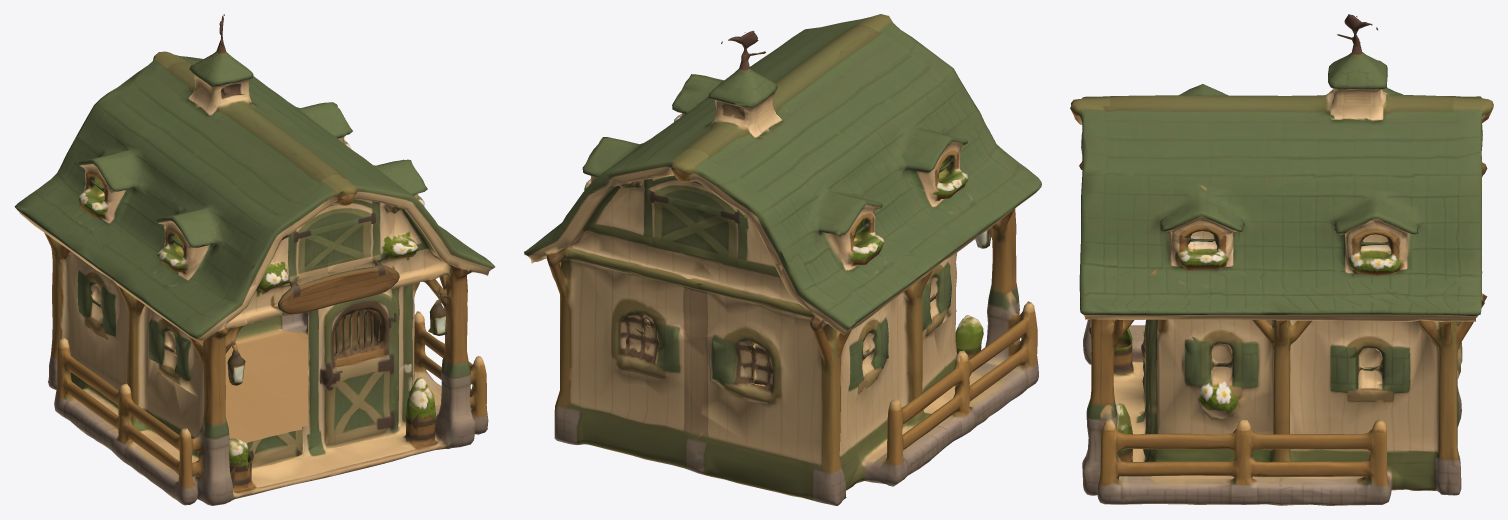
3 views of the same model, side by side, from view 1: azimuth 30°, elevation 25°; view 2: azimuth 150°, elevation 25°; view 3: azimuth 270°, elevation 25° (orthographic). The views are drawn at different scales.
Visible parts, largest first — view 1: stable-lv3; view 2: stable-lv3; view 3: stable-lv3.
Boxes of the visible parts, x1,y1,x2,y2 form: stable-lv3: (14,14,494,505); stable-lv3: (524,14,1041,505); stable-lv3: (1070,14,1493,505).
Bounding box in the file's own units: 3.92 × 4.5 × 4.2.
Materials: 1 (1 with a texture image).
